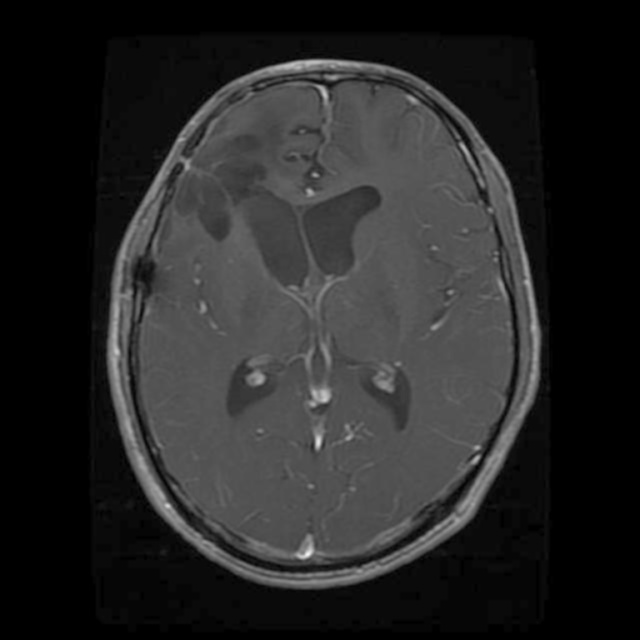pituitary tumor: (178, 138, 262, 234)
